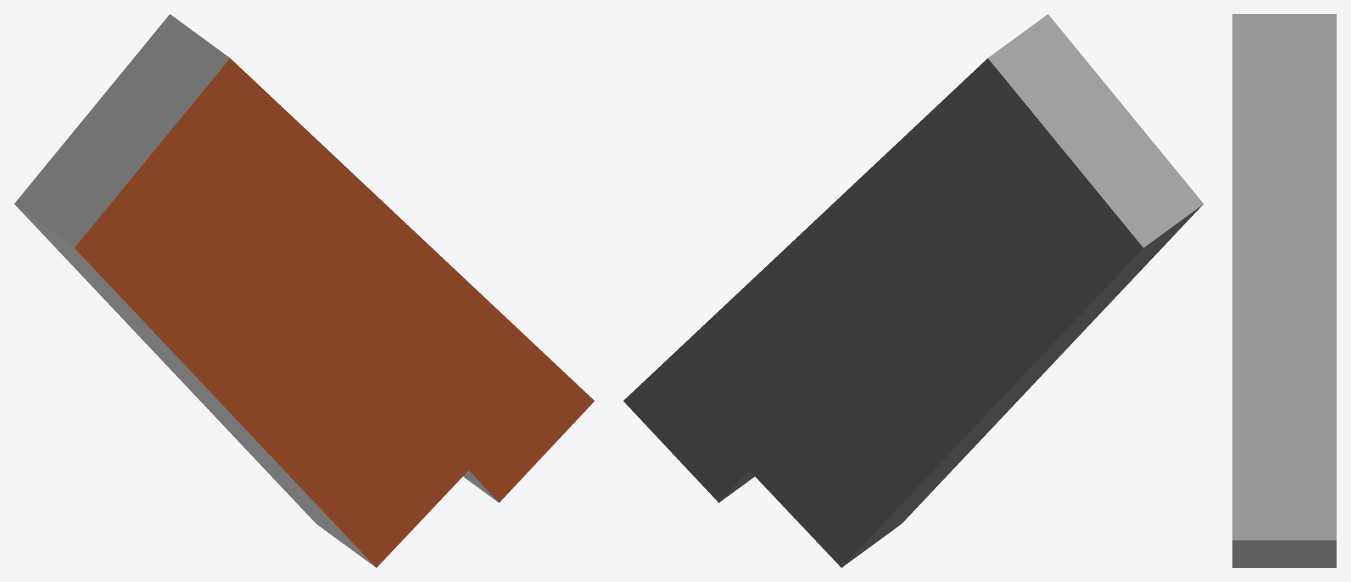
File: construction_2403_assumed_A_Casa_h6m.obj
3 renders of one model, left to right at view 1: azimuth 30°, elevation 25°; view 2: azimuth 150°, elevation 25°; view 3: azimuth 270°, elevation 25°, orthographic. The views are drawn at different scales.
Visible parts, largest first — view 1: construction_2403_assumed_A_Casa; view 2: construction_2403_assumed_A_Casa; view 3: construction_2403_assumed_A_Casa.
Boxes of the visible parts, x1,y1,x2,y2 form: construction_2403_assumed_A_Casa: (14,14,594,567); construction_2403_assumed_A_Casa: (623,14,1203,567); construction_2403_assumed_A_Casa: (1232,14,1336,567).
Bounding box in the file's own units: 29.91 × 29.97 × 6.
